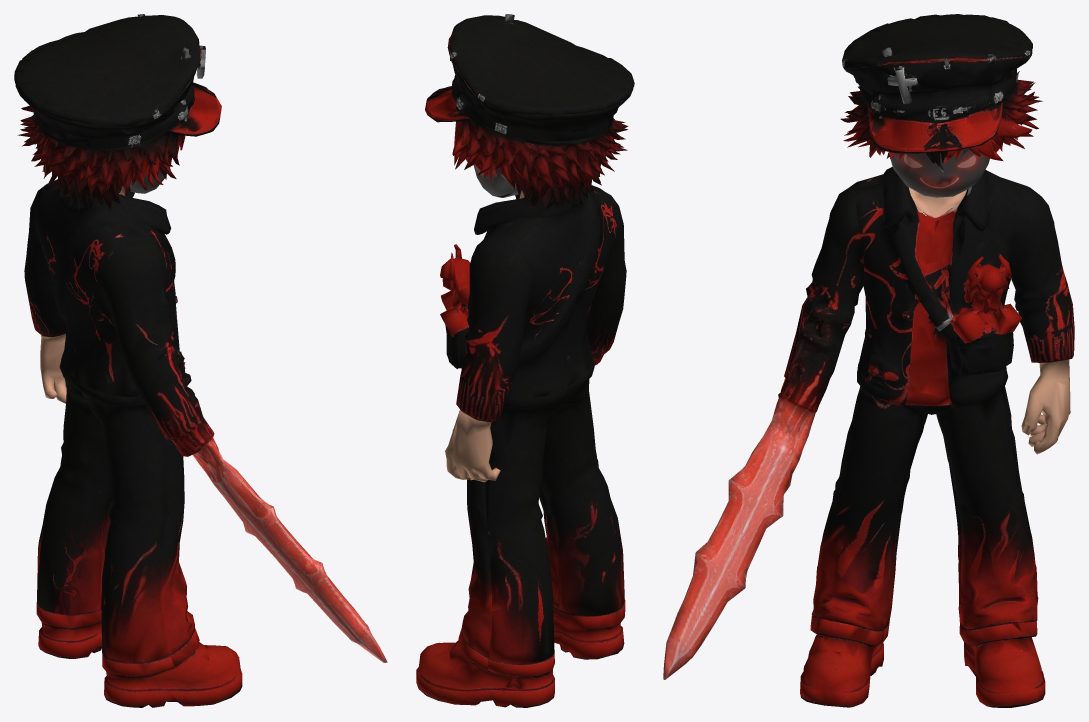
Rendered from Redwarrior.glb.
The picture shows the model from 3 angles, left to right: view 1: azimuth 30°, elevation 25°; view 2: azimuth 150°, elevation 25°; view 3: azimuth 270°, elevation 25°; orthographic projection. The views are drawn at different scales.
Parts seen in each view (by area): view 1: tripo_node_6b9334d1-a7ad-40cd-8f14-36750b2ffac5; view 2: tripo_node_6b9334d1-a7ad-40cd-8f14-36750b2ffac5; view 3: tripo_node_6b9334d1-a7ad-40cd-8f14-36750b2ffac5.
Part boxes in pixels (box(x1,y1,x2,y2)): tripo_node_6b9334d1-a7ad-40cd-8f14-36750b2ffac5: box(14, 14, 387, 707); tripo_node_6b9334d1-a7ad-40cd-8f14-36750b2ffac5: box(416, 14, 634, 707); tripo_node_6b9334d1-a7ad-40cd-8f14-36750b2ffac5: box(663, 14, 1074, 707).
Size of the model in its own units: 0.3751 by 0.9792 by 0.5568.
1 material, 1 textured.
